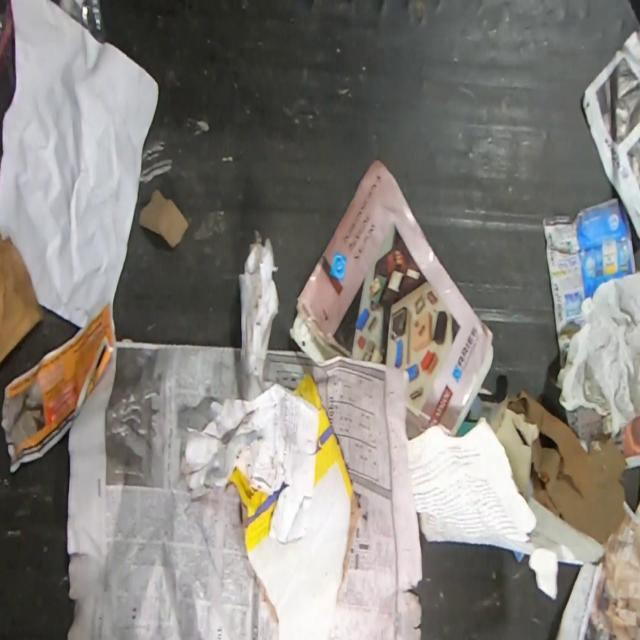cardboard: (227, 369, 361, 640), (505, 390, 630, 546), (540, 196, 636, 368), (0, 231, 44, 365), (138, 189, 189, 247)
soft_plastic: (56, 0, 105, 42)
